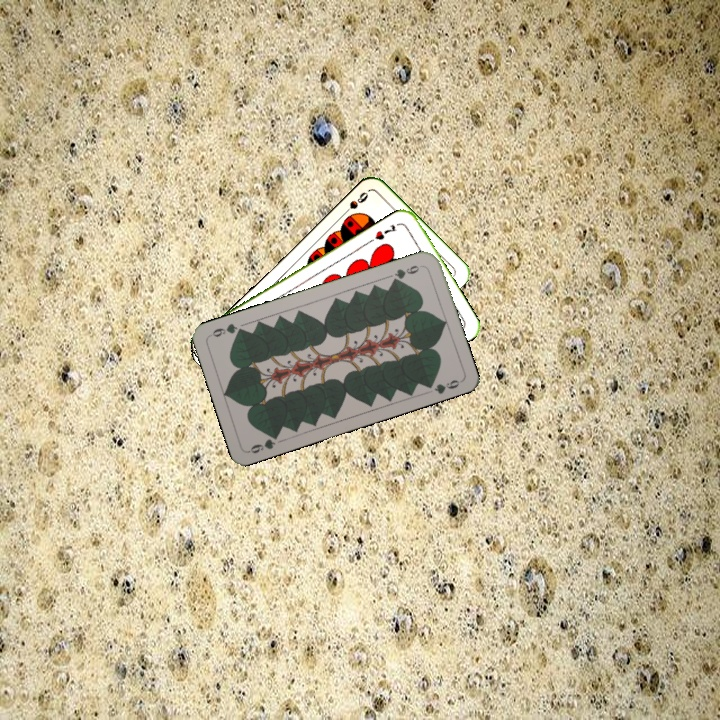G9: (245, 429, 282, 456), (388, 261, 425, 285)
H7: (371, 221, 399, 243)
S9: (338, 188, 371, 219)
